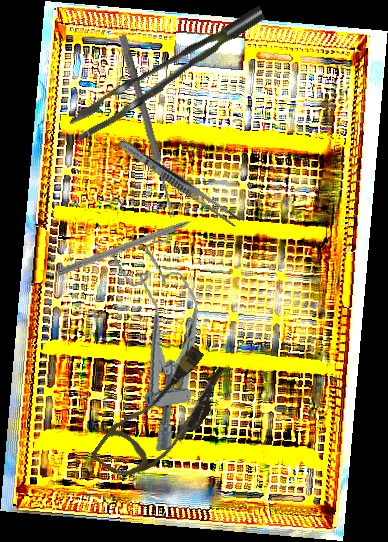Cannula: (89, 335, 236, 498)
Dressing Forceps: (115, 136, 243, 229)
Hook Surgical: (56, 211, 211, 278)
Speculum: (110, 234, 218, 454)
Surgical Spoon: (117, 34, 178, 219)
Tissue Forceps: (59, 5, 279, 142)
